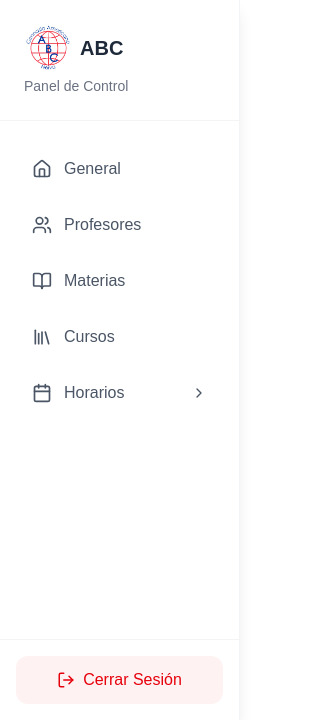
Test: Sidebar Component › toggles submenu when Horarios is clicked
Click the button "Horarios": (120, 393) top-left (16, 369), bottom-right (223, 417)
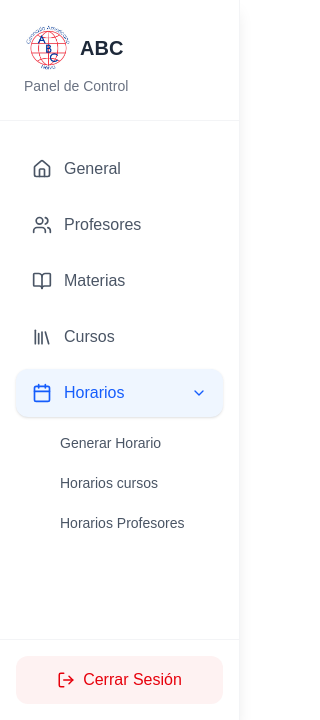
Expected: the button "Generar Horario" is shown, top-left (48, 425), bottom-right (223, 461)
Expected: the button "Horarios cursos" is shown, top-left (48, 465), bottom-right (223, 501)
Expected: the button "Horarios Profesores" is shown, top-left (48, 505), bottom-right (223, 541)
